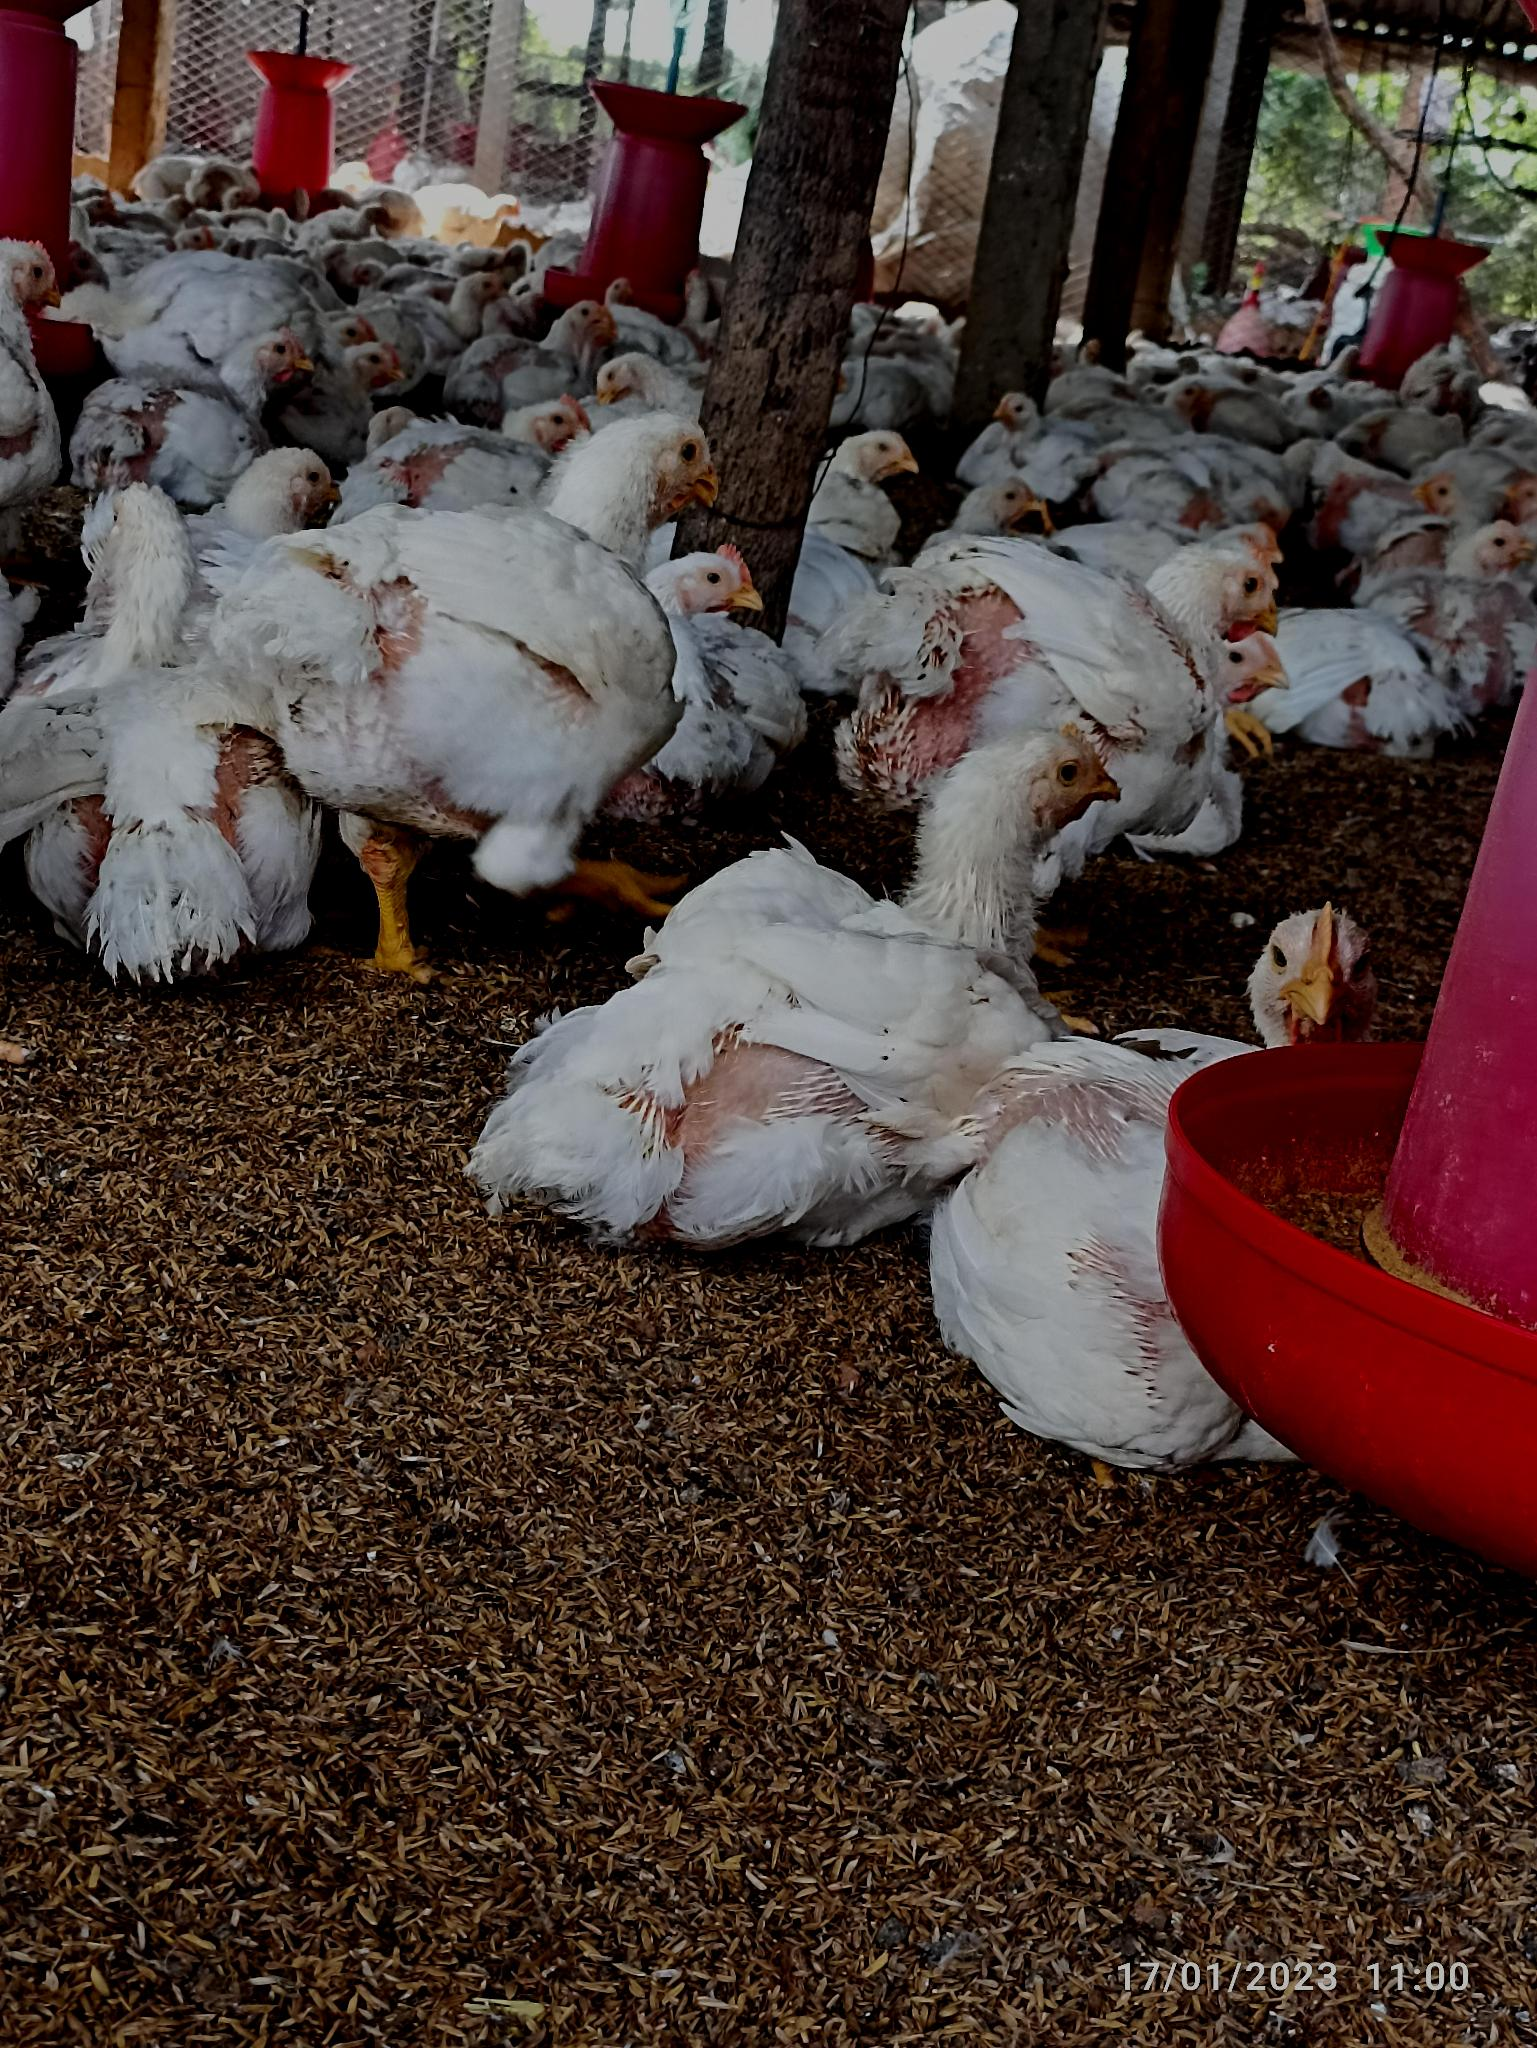Pollos: (515, 725, 1111, 1212), (223, 407, 710, 844), (26, 441, 316, 941), (869, 513, 1290, 713), (1314, 516, 1532, 741), (639, 536, 806, 779), (82, 323, 310, 479), (1214, 897, 1405, 1055), (815, 429, 923, 592), (983, 395, 1099, 489)
